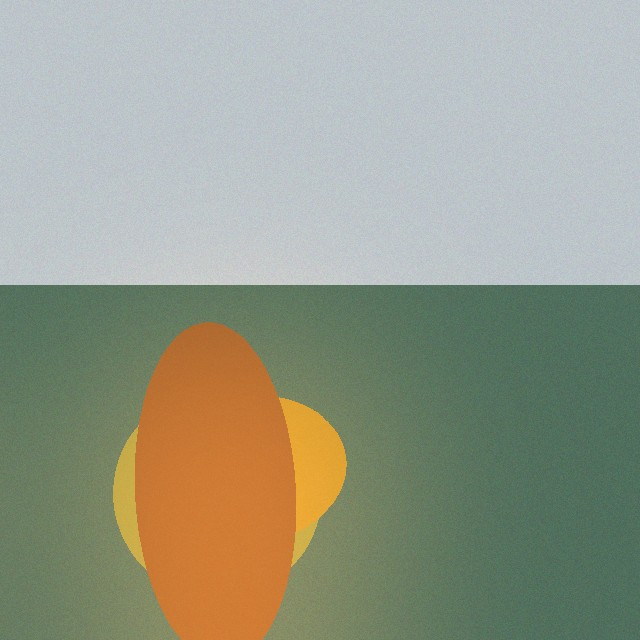fire: (145, 387, 313, 619)
